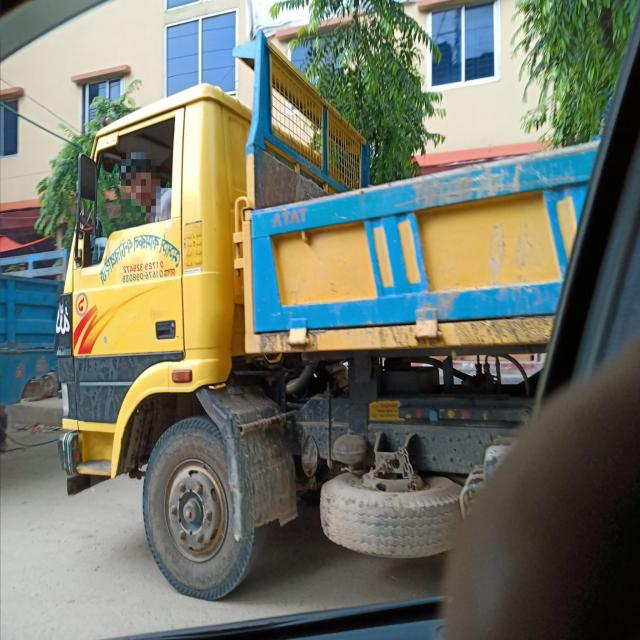truck: (58, 9, 549, 610)
